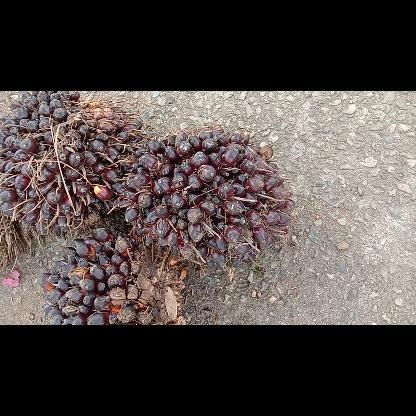TBS mentah: (124, 125, 294, 265), (0, 90, 144, 232), (38, 226, 182, 324)
